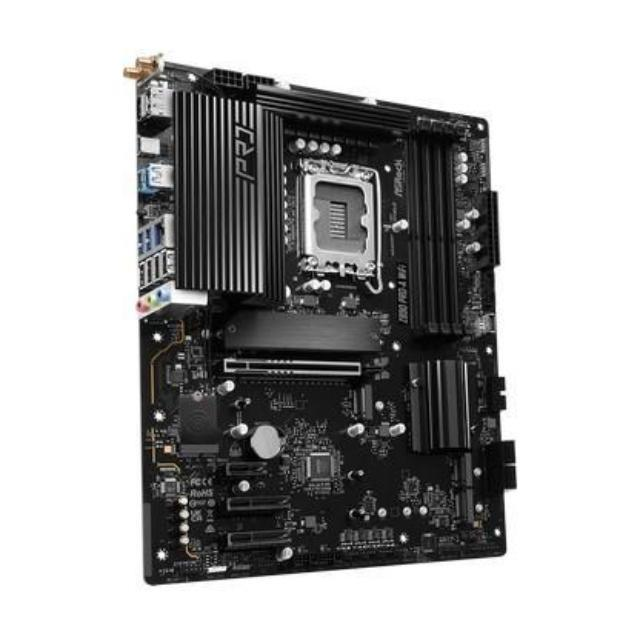Mainboard: (122, 43, 522, 592)
